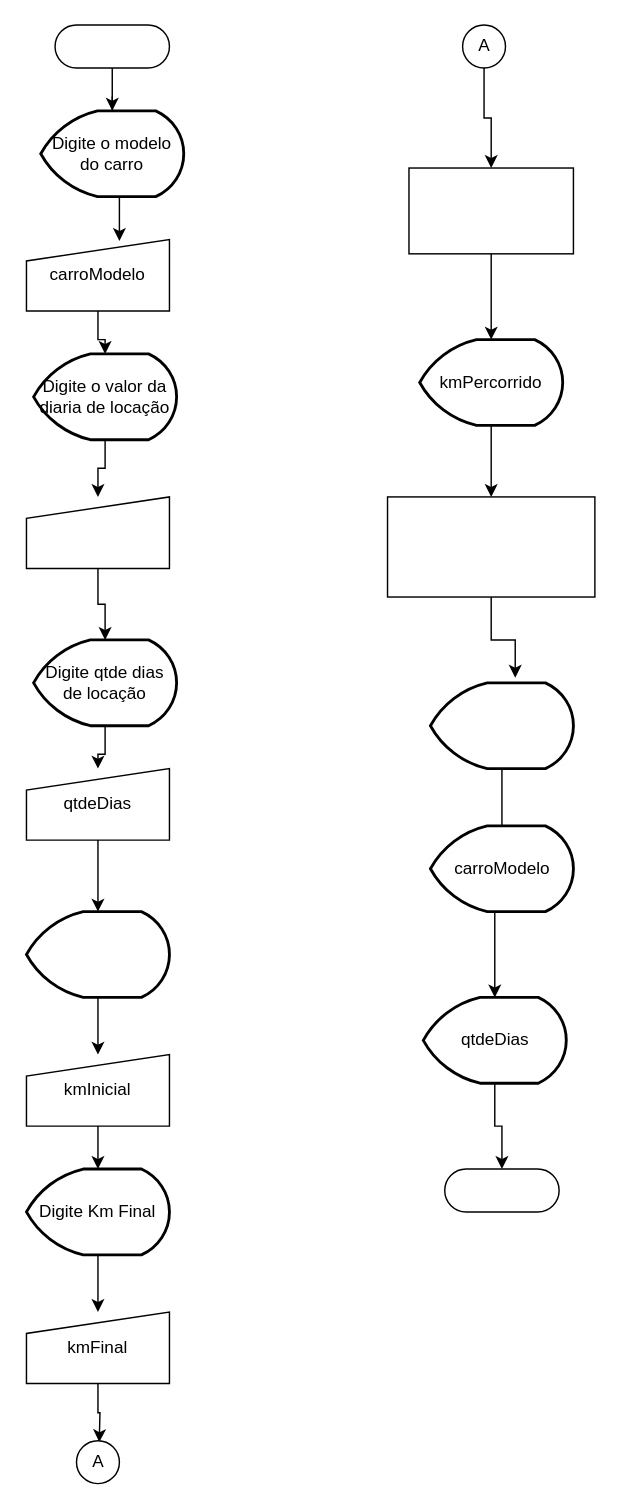
This 619x1509 diagram has some shape labels left out. Each missing label, with the centre of its shape:
"Digite Km Inicial" belongs at point (97, 953).
"Fim" belongs at point (501, 1190).
"Inicio" belongs at point (111, 46).
"kmPercorrido = kmFinal - kmInicial" belongs at point (490, 210).
"precoTotal" belongs at point (501, 725).
"precoTotal = (valorDiaria * qdteDias) + (kmPercorrido * 0,20)" belongs at point (490, 546).
"valorDiaria" belongs at point (97, 531).
